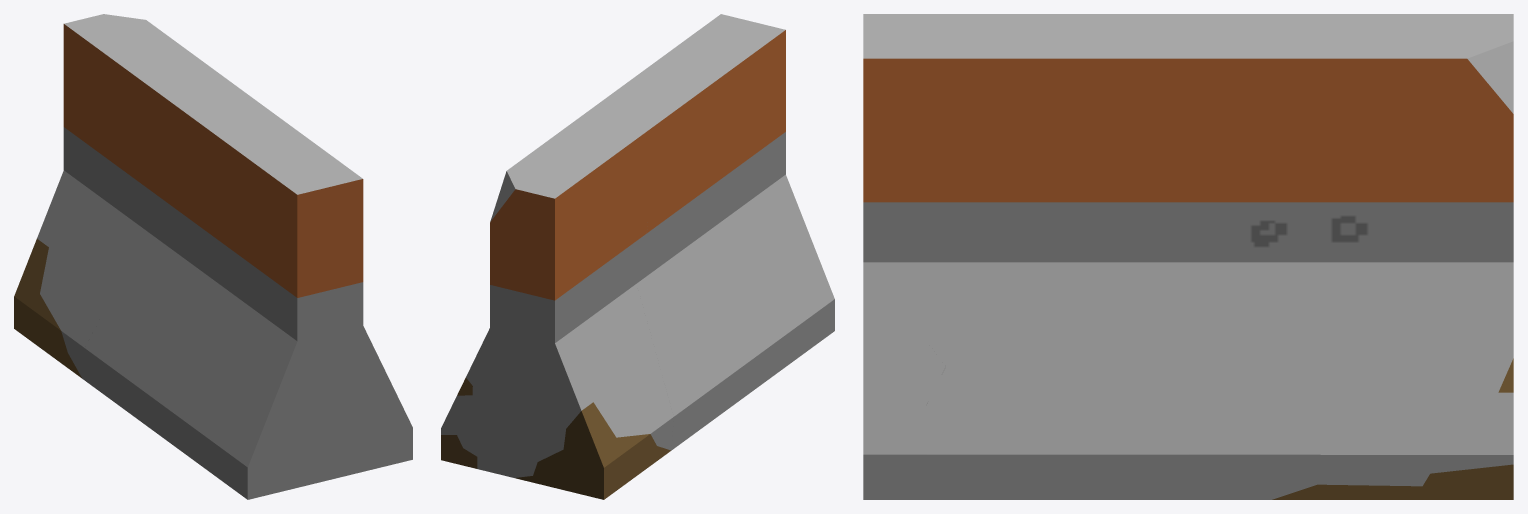
File: RoadObstacle.FBX
3 views of the same model, side by side, from view 1: azimuth 30°, elevation 25°; view 2: azimuth 150°, elevation 25°; view 3: azimuth 270°, elevation 25° (orthographic). The views are drawn at different scales.
Visible parts, largest first — view 1: RoadObstacle_1, RoadObstacle_2; view 2: RoadObstacle_1, RoadObstacle_2; view 3: RoadObstacle_1, RoadObstacle_2.
Part boxes in pixels (x1=…): RoadObstacle_1: x1=14, y1=14, x2=412, y2=499; RoadObstacle_2: x1=82, y1=100, x2=179, y2=413; RoadObstacle_1: x1=441, y1=14, x2=834, y2=499; RoadObstacle_2: x1=636, y1=115, x2=722, y2=450; RoadObstacle_1: x1=863, y1=14, x2=1513, y2=499; RoadObstacle_2: x1=926, y1=58, x2=1190, y2=499.
Size of the model in its own units: 1 by 1.7 by 2.45.
